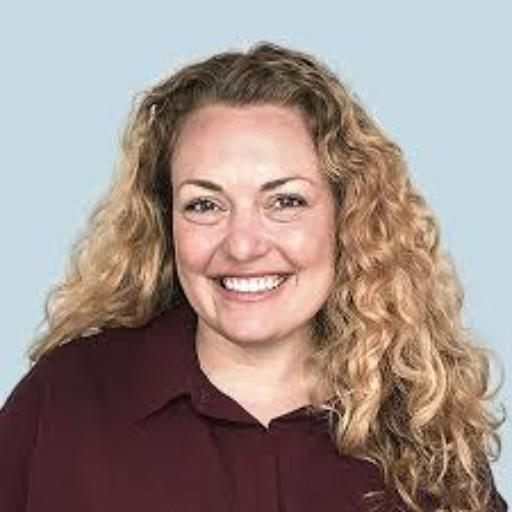left_eye: (265, 193, 313, 213)
left_lip_corner: (284, 270, 301, 283)
right_eye: (184, 200, 226, 215)
right_lip_corner: (206, 274, 224, 289)
